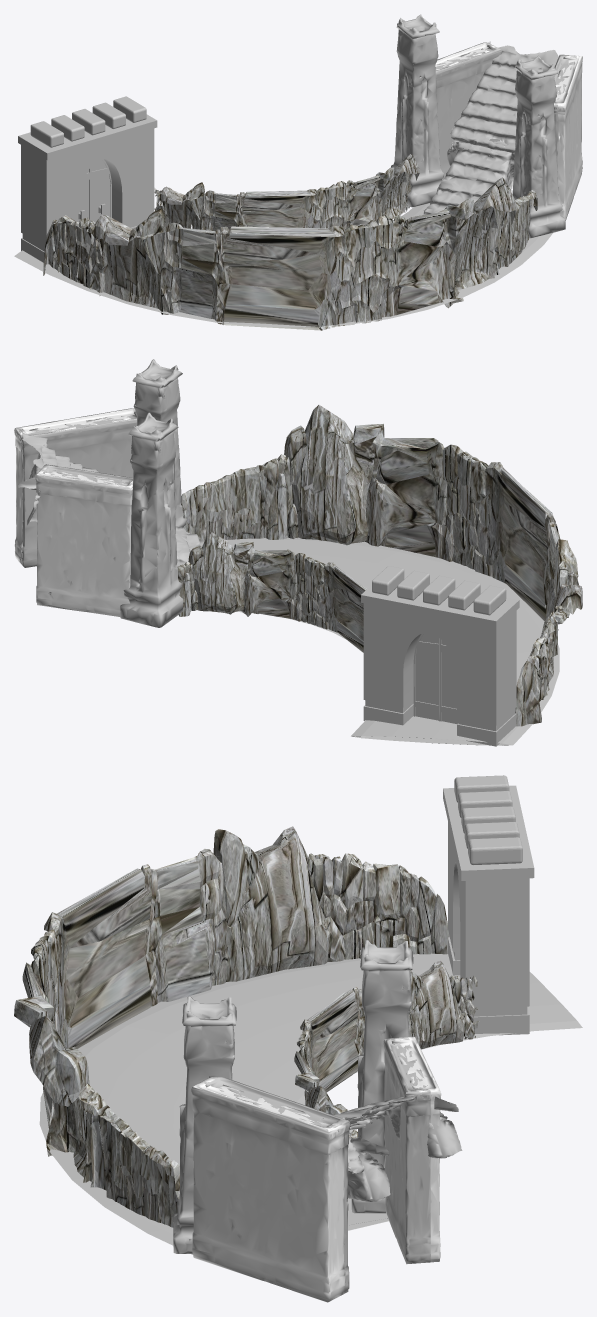
Rendered from last part.fbx.
The picture shows the model from 3 angles, top to bottom: view 1: azimuth 30°, elevation 25°; view 2: azimuth 150°, elevation 25°; view 3: azimuth 270°, elevation 25°; orthographic projection. The views are drawn at different scales.
Parts seen in each view (by area): view 1: RetopoFlow.001, Wall.002, RetopoFlow.004, DesertTemple_Wall_Tall_02.001, DesertTemple_Wall_Tall_02.002, stairs.001, DesertTemple_WallBlock_01.002, DesertTemple_WallBlock_01.001, stairs, Torus, Door_L.001, Door_R.001; view 2: RetopoFlow.001, Wall.002, DesertTemple_WallBlock_01.001, RetopoFlow.004, Torus, DesertTemple_Wall_Tall_02.001, DesertTemple_WallBlock_01.002, DesertTemple_Wall_Tall_02.002, Door_L.001, stairs.001, Door_R.001, stairs; view 3: RetopoFlow.001, DesertTemple_WallBlock_01.002, Torus, Wall.002, RetopoFlow.004, DesertTemple_WallBlock_01.001, DesertTemple_Wall_Tall_02.001, DesertTemple_Wall_Tall_02.002, stairs.001, stairs.
Part boxes in pixels (<box>): RetopoFlow.001: <box>43,177,537,330</box>; Wall.002: <box>18,96,157,264</box>; RetopoFlow.004: <box>154,154,419,231</box>; DesertTemple_Wall_Tall_02.001: <box>391,14,443,207</box>; DesertTemple_Wall_Tall_02.002: <box>512,56,565,238</box>; stairs.001: <box>450,41,560,153</box>; DesertTemple_WallBlock_01.002: <box>554,54,582,220</box>; DesertTemple_WallBlock_01.001: <box>435,42,502,180</box>; stairs: <box>423,141,514,215</box>; Torus: <box>14,203,552,327</box>; Door_L.001: <box>90,159,111,223</box>; Door_R.001: <box>78,167,90,221</box>; RetopoFlow.001: <box>181,405,582,726</box>; Wall.002: <box>361,566,519,746</box>; DesertTemple_WallBlock_01.001: <box>35,464,132,616</box>; RetopoFlow.004: <box>177,532,366,652</box>; Torus: <box>176,537,559,745</box>; DesertTemple_Wall_Tall_02.001: <box>120,412,183,627</box>; DesertTemple_WallBlock_01.002: <box>14,408,136,567</box>; DesertTemple_Wall_Tall_02.002: <box>132,359,189,534</box>; Door_L.001: <box>413,633,439,721</box>; stairs.001: <box>18,436,98,525</box>; Door_R.001: <box>440,638,458,723</box>; stairs: <box>175,526,204,564</box>; RetopoFlow.001: <box>14,826,449,1227</box>; DesertTemple_WallBlock_01.002: <box>191,1077,350,1302</box>; Torus: <box>39,953,582,1254</box>; Wall.002: <box>443,775,534,1035</box>; RetopoFlow.004: <box>294,960,479,1138</box>; DesertTemple_WallBlock_01.001: <box>383,1037,441,1264</box>; DesertTemple_Wall_Tall_02.001: <box>351,940,413,1213</box>; DesertTemple_Wall_Tall_02.002: <box>173,996,236,1253</box>; stairs.001: <box>328,1095,462,1173</box>; stairs: <box>348,1137,390,1201</box>.
Size of the model in its own units: 6360 by 2180 by 4227.
